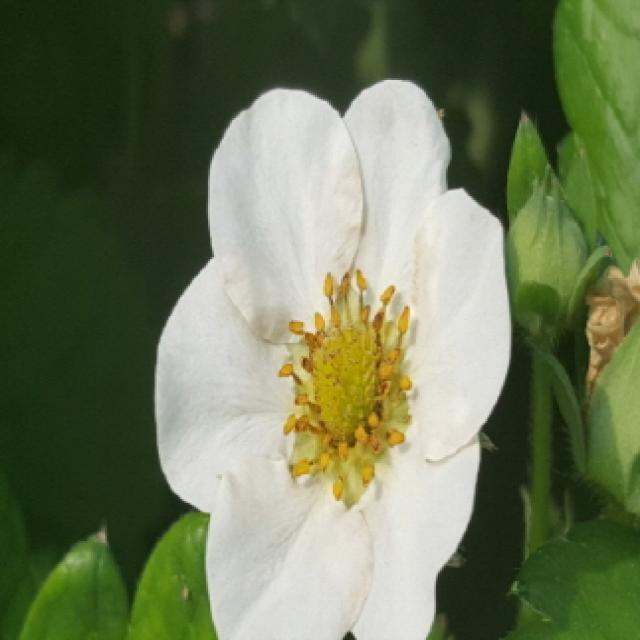Blossom Blight: (271, 262, 420, 507)
